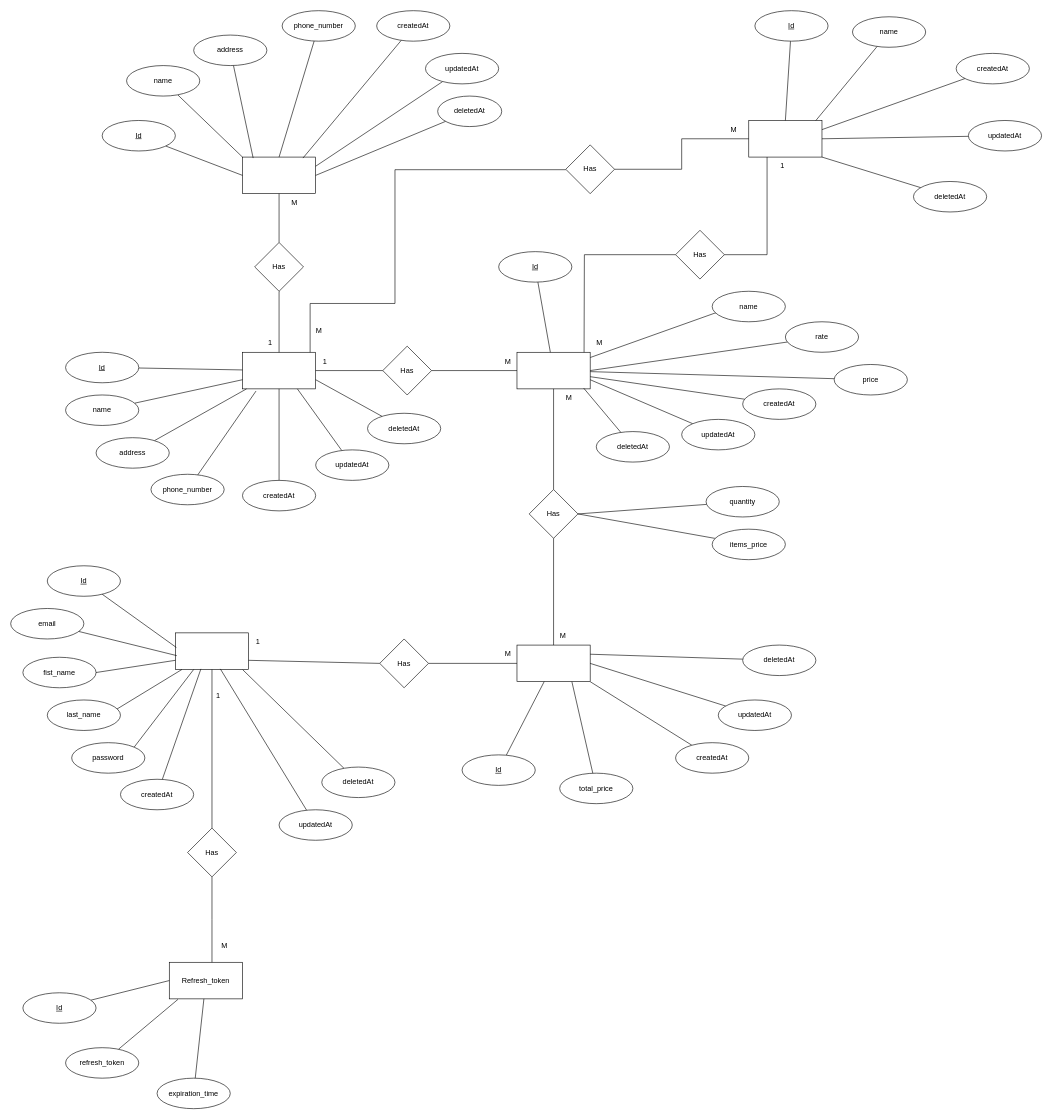
This 1052x1119 diagram has some shape labels left out. The centre of each missing label's shape, as x and y in pixels:
"Dish" belongs at (x=553, y=370).
"Dish_category" belongs at (x=785, y=138).
"Order" belongs at (x=553, y=663).
"Resturant" belongs at (x=279, y=370).
"Staff" belongs at (x=279, y=175).
"User" belongs at (x=212, y=650).
